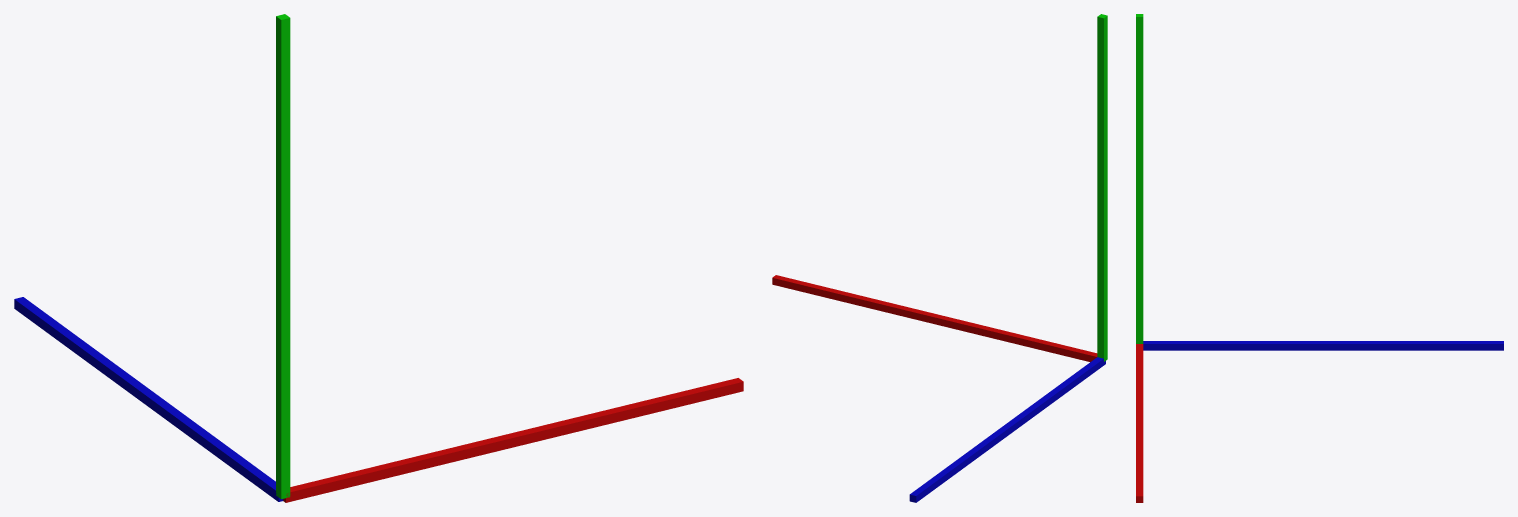
Rendered from Axes.fbx.
3 views of the same model, side by side, from view 1: azimuth 30°, elevation 25°; view 2: azimuth 150°, elevation 25°; view 3: azimuth 270°, elevation 25° (orthographic). The views are drawn at different scales.
Parts seen in each view (by area): view 1: pCube1, pCube2, pCube3; view 2: pCube1, pCube2, pCube3; view 3: pCube3, pCube1, pCube2.
Boxes of the visible parts, bbox=[...] form: pCube1: bbox=[276, 14, 290, 499]; pCube2: bbox=[283, 378, 743, 502]; pCube3: bbox=[14, 297, 283, 501]; pCube1: bbox=[1097, 14, 1107, 361]; pCube2: bbox=[772, 275, 1097, 361]; pCube3: bbox=[909, 357, 1105, 502]; pCube3: bbox=[1143, 341, 1503, 350]; pCube1: bbox=[1136, 14, 1143, 343]; pCube2: bbox=[1136, 344, 1143, 502].
Bounding box in the file's own units: 5.05 × 5.05 × 5.05.
